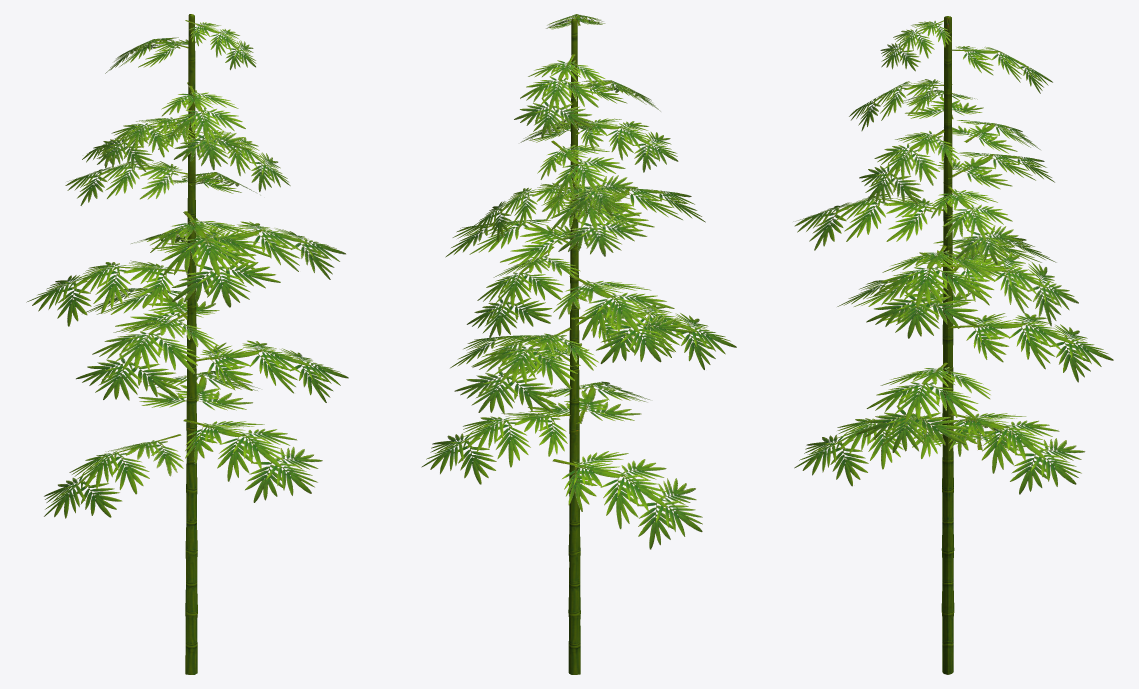
File: BambooB.fbx
The picture shows the model from 3 angles, left to right: view 1: azimuth 30°, elevation 25°; view 2: azimuth 150°, elevation 25°; view 3: azimuth 270°, elevation 25°; orthographic projection.
Visible parts, largest first — view 1: pPlane12, pPlane3, pPlane17; view 2: pPlane12, pPlane3; view 3: pPlane12, pPlane3, pPlane17.
Boxes of the visible parts, x1,y1,x2,y2 form: pPlane12: (26,20,348,518); pPlane3: (185,14,197,674); pPlane17: (195,130,290,191); pPlane12: (421,14,736,549); pPlane3: (568,18,580,674); pPlane12: (793,20,1113,494); pPlane3: (941,16,954,674); pPlane17: (859,129,959,204).
Size of the model in its own units: 2.1 by 4.24 by 2.08.
Materials: 2 (2 with a texture image).
